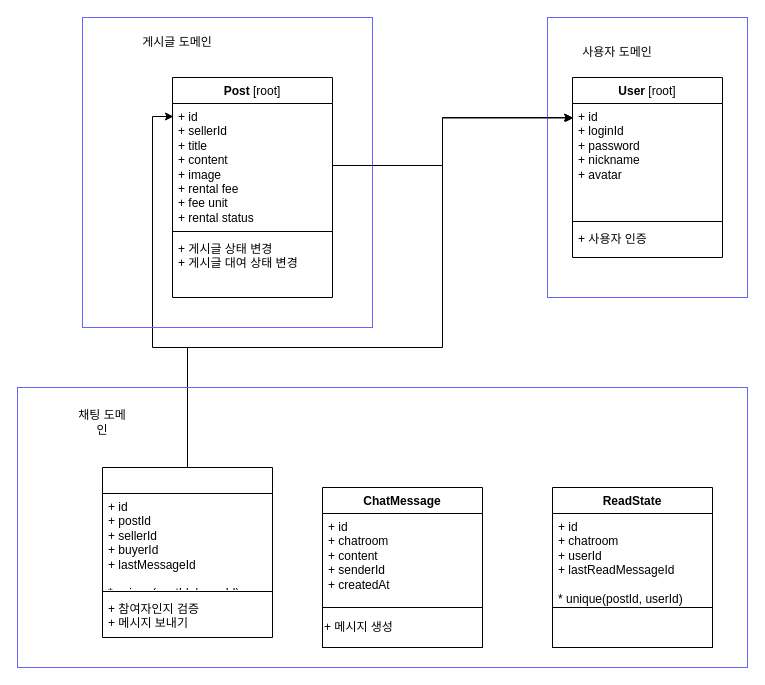
This 765x685 diagram has some shape labels left out. Each missing label, with the box of its shape:
+ 메시지 읽음 처리: (552, 606, 712, 648)
ChatRoom [root]: (102, 466, 272, 638)
